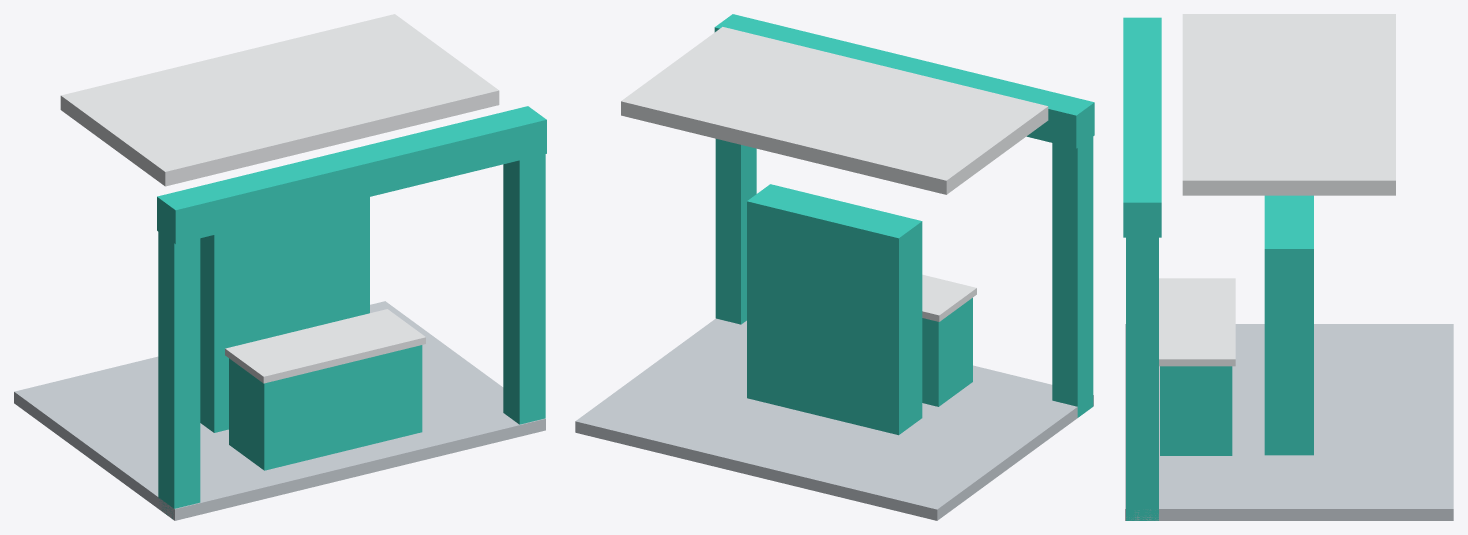
3 views of the same model, side by side, from view 1: azimuth 30°, elevation 25°; view 2: azimuth 150°, elevation 25°; view 3: azimuth 270°, elevation 25° (orthographic). The views are drawn at different scales.
Parts seen in each view (by area): view 1: Exhibition Booth Concept; view 2: Exhibition Booth Concept; view 3: Exhibition Booth Concept.
Part boxes in pixels (bbox=[...]): Exhibition Booth Concept: bbox=[14, 14, 546, 520]; Exhibition Booth Concept: bbox=[575, 14, 1094, 520]; Exhibition Booth Concept: bbox=[1123, 14, 1453, 520].
Size of the model in its own units: 4 by 3.34 by 3.01.
